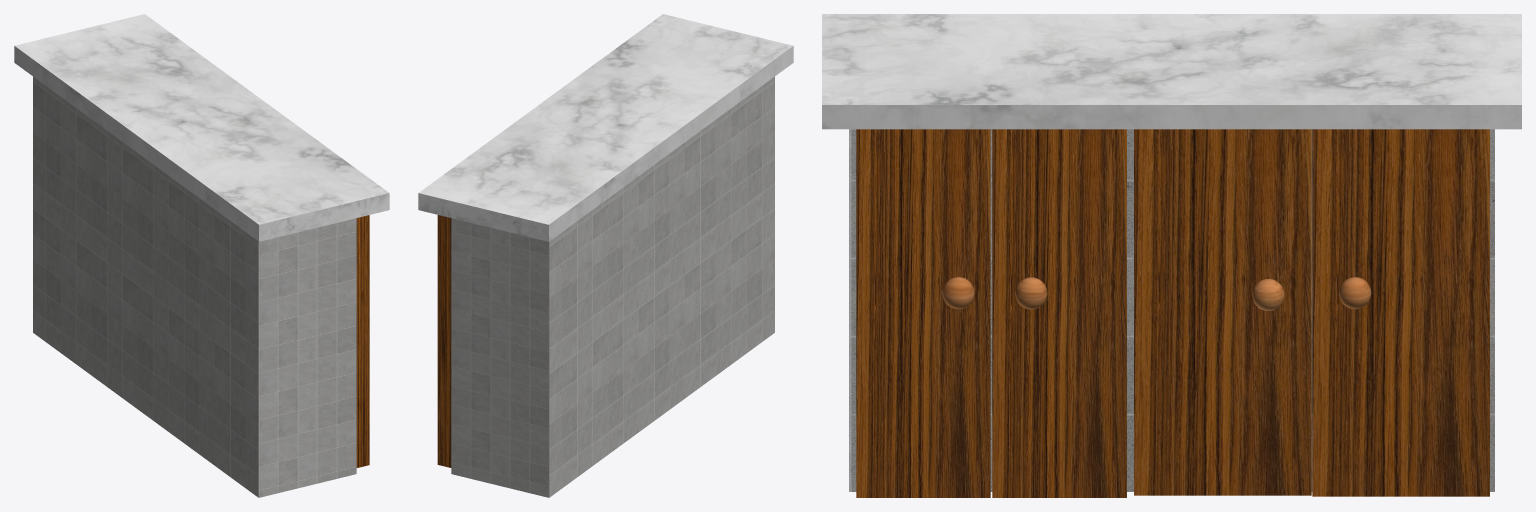
File: FRTABLEUVOK.fbx
3 views of the same model, side by side, from view 1: azimuth 30°, elevation 25°; view 2: azimuth 150°, elevation 25°; view 3: azimuth 270°, elevation 25° (orthographic). The views are drawn at different scales.
Parts seen in each view (by area): view 1: pCube1, pCube2, pasted__pasted__pCube1; view 2: pCube1, pCube2, pasted__pasted__pCube2; view 3: pCube2, pasted__pasted__pCube2, pasted__pasted__pasted__pCube2, pasted__pasted__pCube1, pasted__pCube1, pCube1, pasted__pSphere1 (×3), pSphere1.
Part boxes in pixels (x1=…): pCube1: x1=33, y1=76, x2=356, y2=497; pCube2: x1=14, y1=14, x2=389, y2=241; pasted__pasted__pCube1: x1=356, y1=215, x2=369, y2=467; pCube1: x1=451, y1=76, x2=774, y2=497; pCube2: x1=418, y1=14, x2=793, y2=241; pasted__pasted__pCube2: x1=437, y1=215, x2=451, y2=467; pCube2: x1=822, y1=14, x2=1521, y2=129; pasted__pasted__pCube2: x1=1312, y1=129, x2=1489, y2=496; pasted__pasted__pasted__pCube2: x1=1134, y1=129, x2=1311, y2=495; pasted__pasted__pCube1: x1=856, y1=129, x2=990, y2=497; pasted__pCube1: x1=992, y1=129, x2=1126, y2=497; pCube1: x1=849, y1=129, x2=1494, y2=491; pasted__pSphere1 (×3): x1=1015, y1=277, x2=1371, y2=310; pSphere1: x1=942, y1=277, x2=974, y2=309.
Size of the model in its own units: 4.28 by 8.27 by 13.
4 materials, 4 textured.
